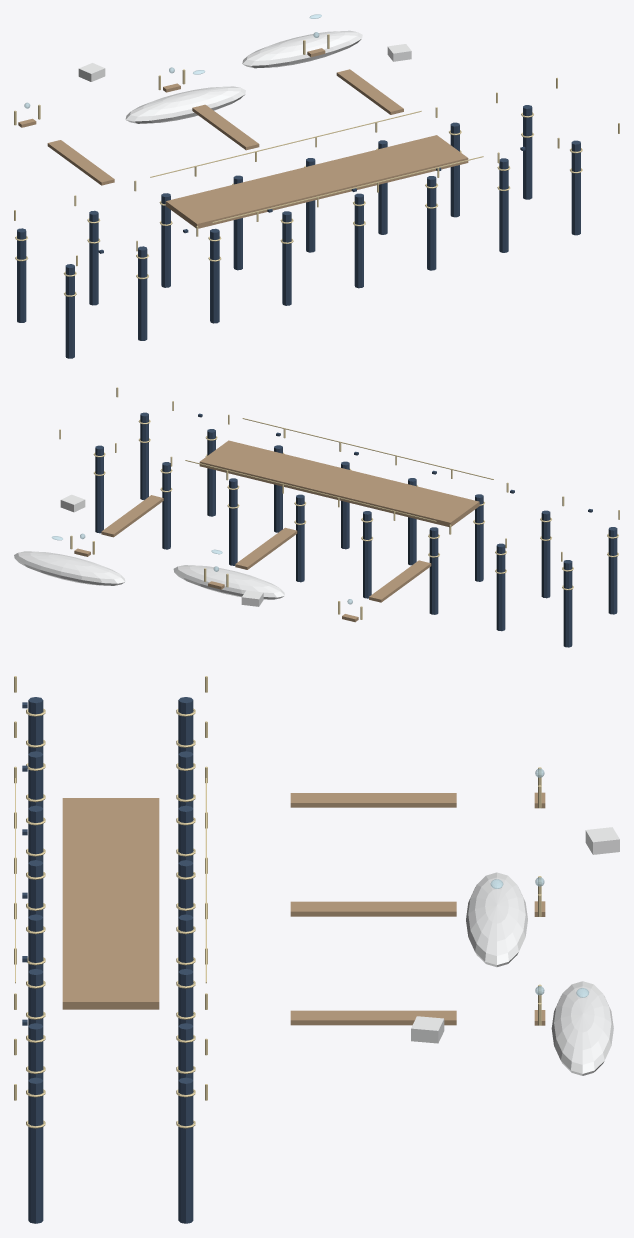
File: reef-dock.glb
3 views of the same model, one above another, from view 1: azimuth 30°, elevation 25°; view 2: azimuth 150°, elevation 25°; view 3: azimuth 270°, elevation 25° (orthographic). The views are drawn at different scales.
Parts seen in each view (by area): view 1: Cylinder.006, Cube.003, Sphere.006, Torus.180; view 2: Cylinder.006, Cube.003, Sphere.006, Torus.180; view 3: Cube.003, Cylinder.006, Sphere.006, Torus.180.
Part boxes in pixels (x1,y1,x2,y2): Cylinder.006: (17,105,580,358); Cube.003: (18,48,468,228); Sphere.006: (78,30,411,123); Torus.180: (14,34,619,296); Cylinder.006: (95,412,617,647); Cube.003: (74,440,479,622); Sphere.006: (14,494,284,606); Torus.180: (59,387,619,619); Cube.003: (62,792,545,1025); Cylinder.006: (22,697,193,1223); Sphere.006: (411,827,619,1075); Torus.180: (14,676,541,1128).
Bounding box in the file's own units: 45.54 × 8.6 × 28.25.
